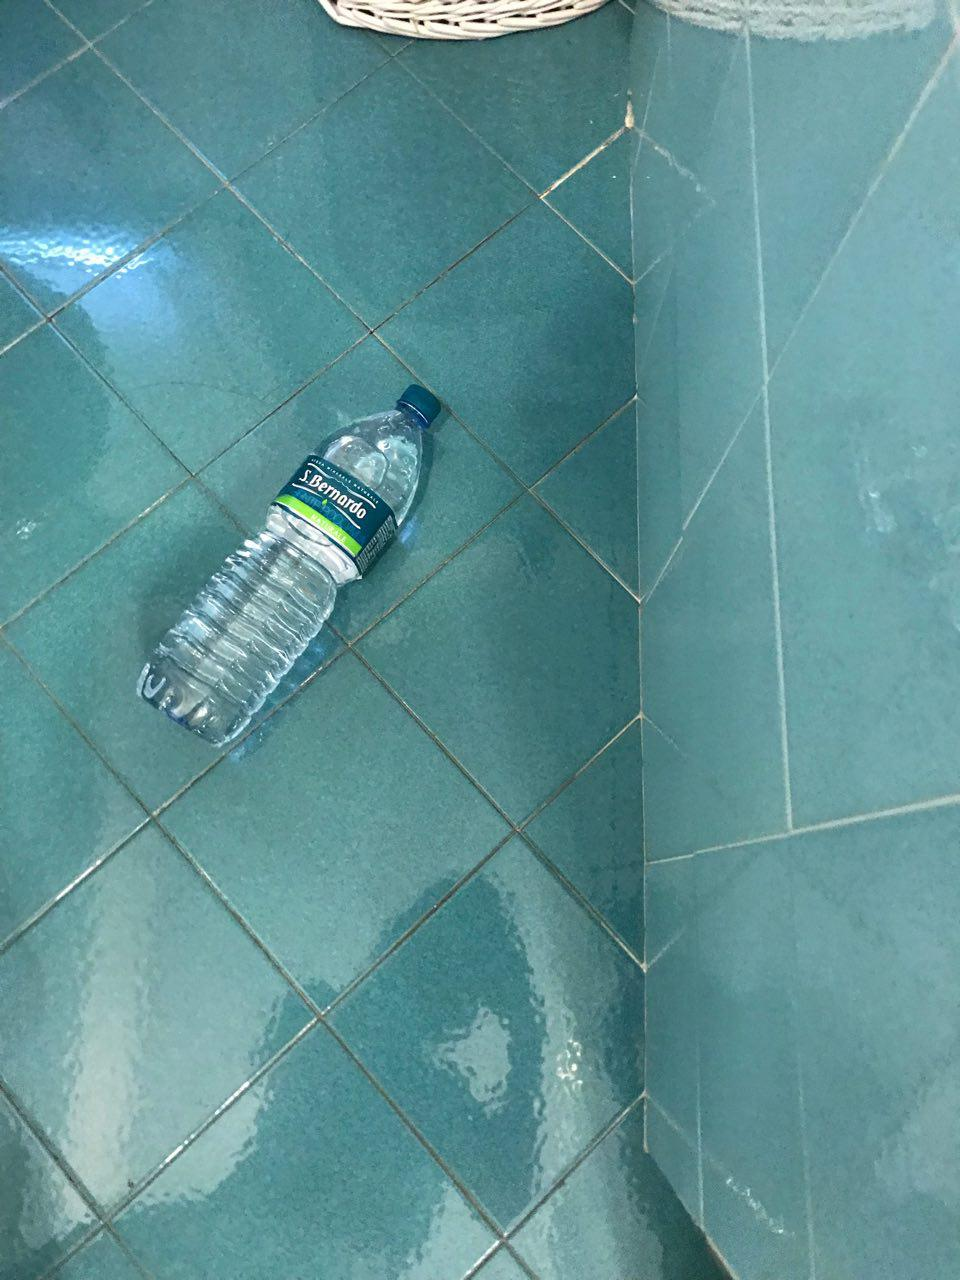san_bernardo: (134, 383, 443, 747)
